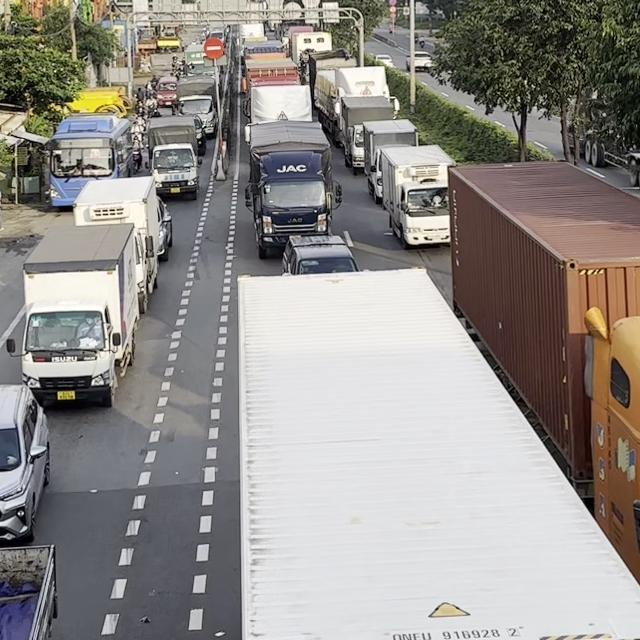bus: (41, 113, 135, 210)
car: (0, 383, 51, 544), (280, 230, 360, 275)
truck: (237, 267, 640, 640), (448, 159, 640, 589), (5, 222, 144, 408), (243, 121, 342, 259), (72, 175, 165, 294), (376, 143, 456, 248), (313, 65, 391, 147), (0, 543, 57, 639), (361, 118, 419, 204), (336, 93, 399, 171), (149, 142, 200, 200), (248, 83, 312, 123)
